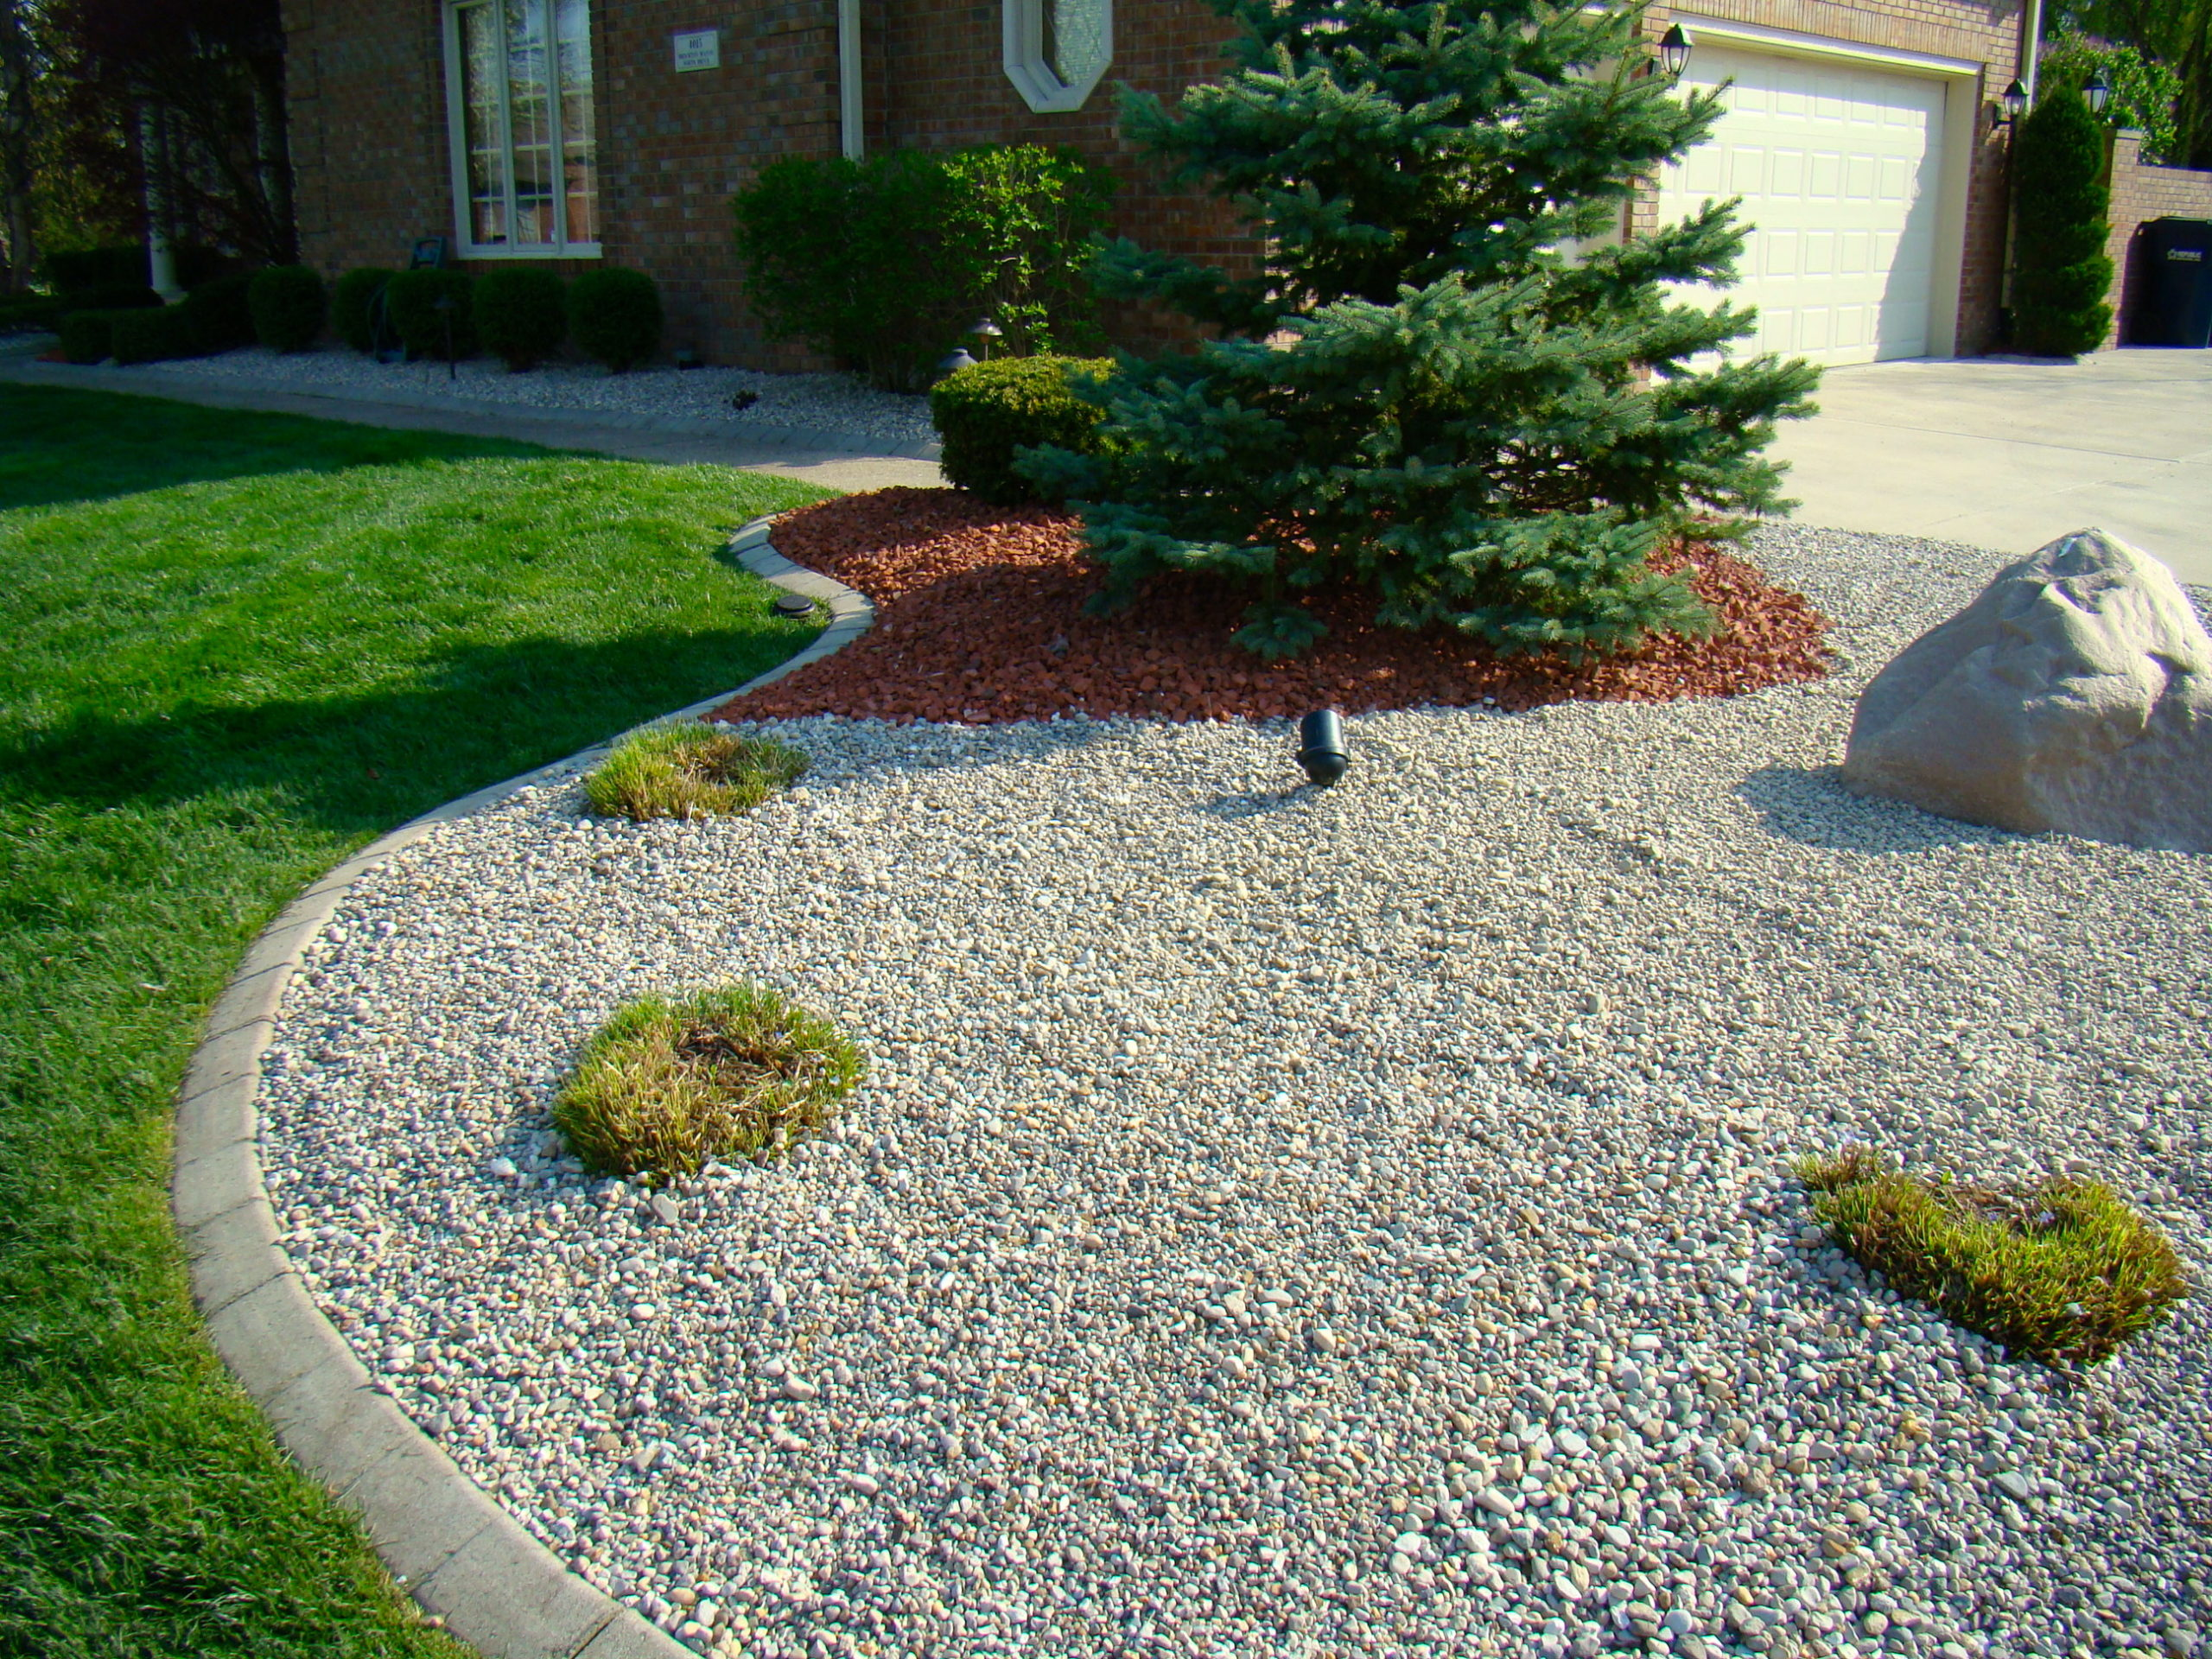dirt: (1163, 575, 1817, 716), (806, 495, 1153, 713)
grass: (2, 403, 766, 1649)
rock: (261, 716, 2209, 1656), (1831, 519, 2209, 823)
